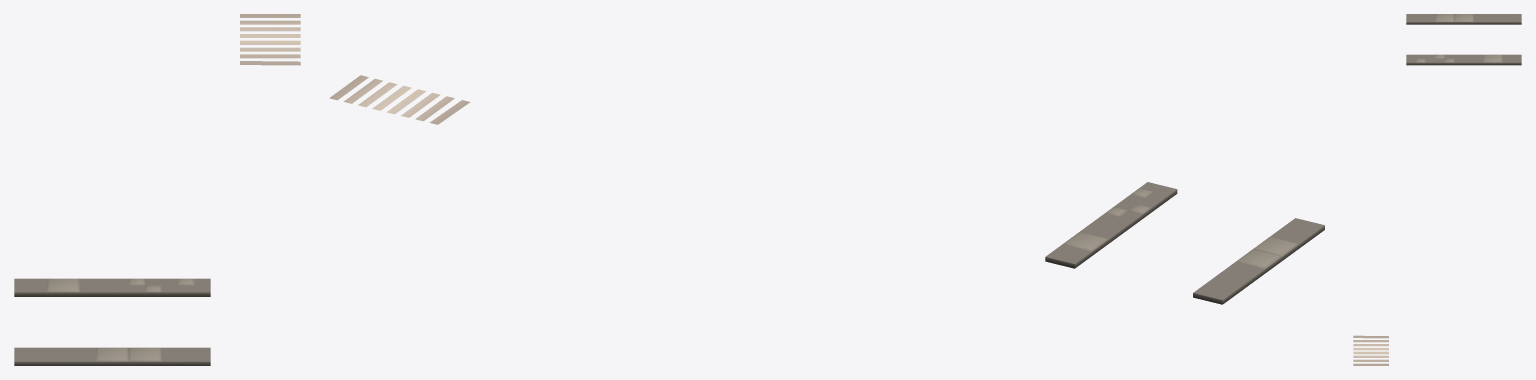
The model's file is asest.fbx.
The picture shows the model from 3 angles, left to right: view 1: azimuth 90°, elevation 25°; view 2: azimuth 150°, elevation 25°; view 3: azimuth 270°, elevation 25°; orthographic projection. The views are drawn at different scales.
Parts seen in each view (by area): view 1: polySurface31, polySurface30, polySurface4; view 2: polySurface31, polySurface30, polySurface4; view 3: polySurface31, polySurface30, polySurface4.
Part boxes in pixels (x1,y1,x2,y2): polySurface31: (14, 278, 210, 296); polySurface30: (14, 347, 210, 365); polySurface4: (240, 14, 300, 65); polySurface31: (1045, 182, 1177, 268); polySurface30: (1193, 218, 1324, 304); polySurface4: (329, 75, 470, 124); polySurface31: (1406, 54, 1521, 65); polySurface30: (1406, 14, 1521, 24); polySurface4: (1353, 335, 1388, 365).
Size of the model in its own units: 6844 by 854 by 1751.
1 material, 1 textured.
